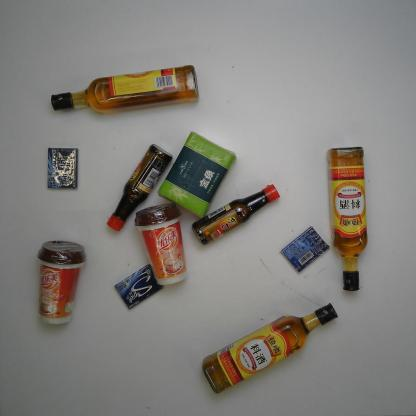Gum: (280, 225, 330, 274), (113, 264, 164, 312), (46, 147, 78, 190)
Instant Drink: (132, 202, 188, 286), (36, 239, 88, 326)
Seasoner: (201, 302, 339, 394), (50, 64, 200, 116), (325, 145, 369, 293), (105, 142, 176, 232), (192, 183, 281, 249)
Tissue: (156, 129, 237, 219)
